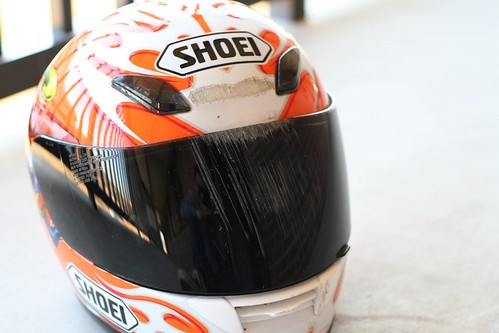helmet: (29, 6, 330, 274)
